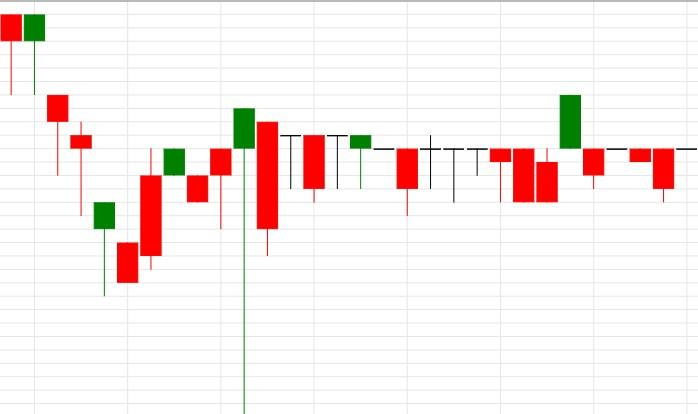hanging_man_fall: (186, 107, 255, 414)
